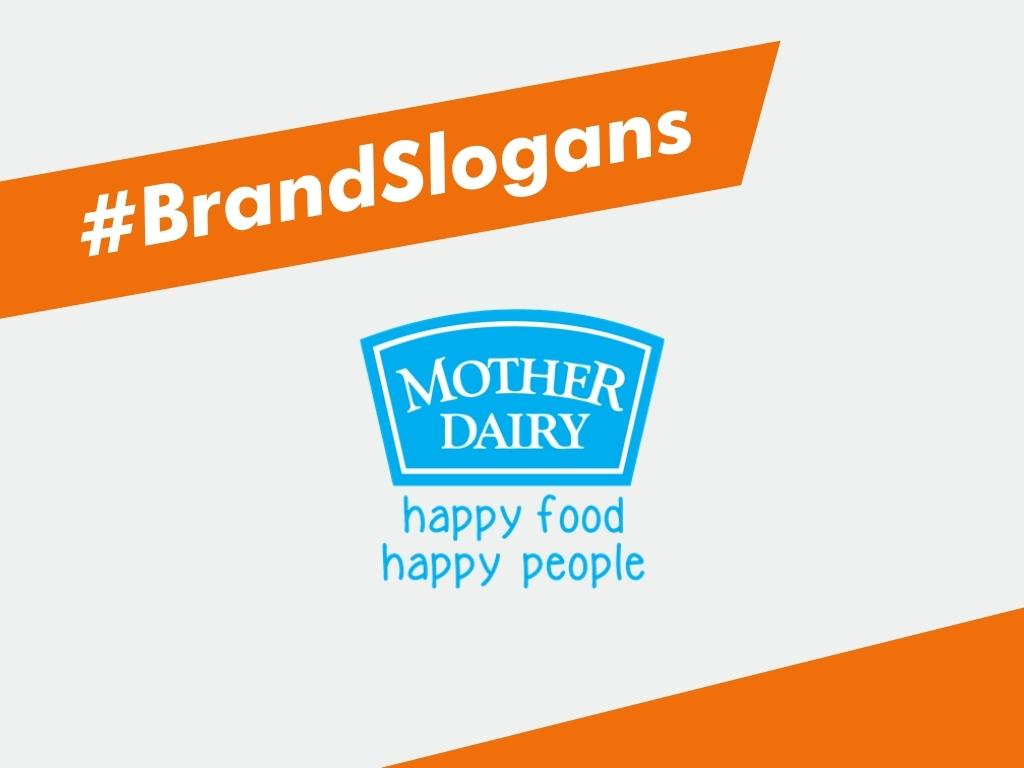Mother_Dairy: (344, 298, 682, 497)
